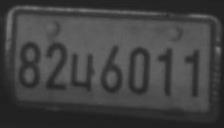0: (128, 47, 150, 94)
1: (156, 48, 177, 96), (183, 49, 204, 97)
2: (44, 43, 67, 90)
6: (99, 45, 123, 93)
8: (18, 41, 39, 88)
나: (71, 53, 94, 91)
